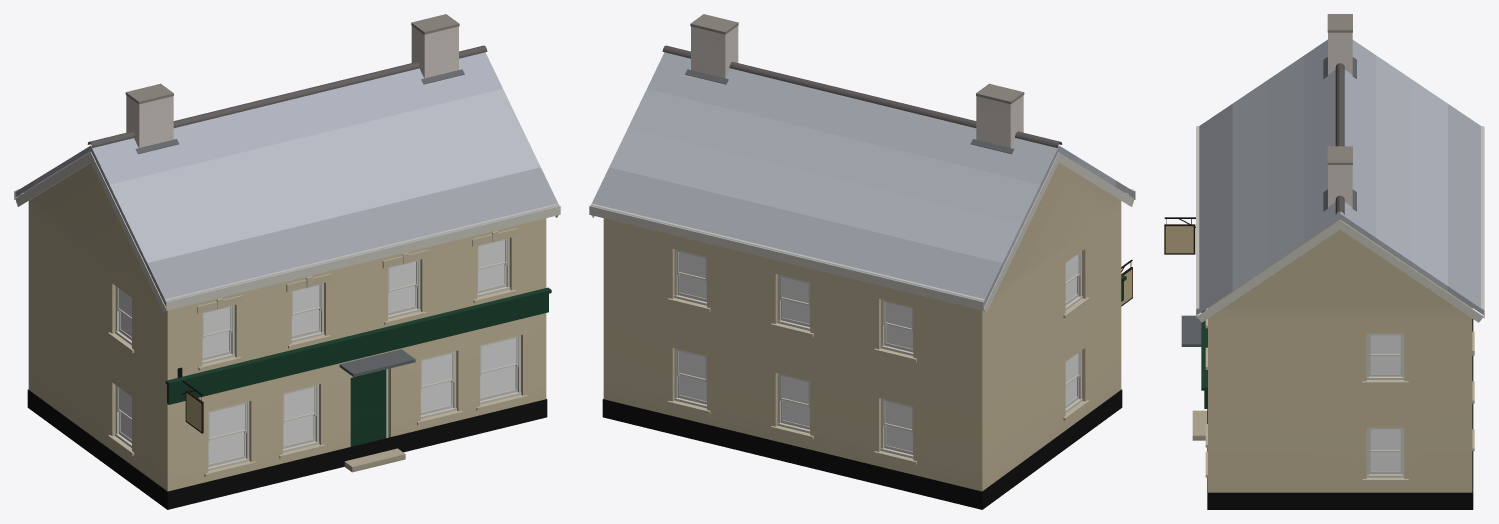
The model's file is town_pub_a_lod2.glb.
The picture shows the model from 3 angles, left to right: view 1: azimuth 30°, elevation 25°; view 2: azimuth 150°, elevation 25°; view 3: azimuth 270°, elevation 25°; orthographic projection. The views are drawn at different scales.
Parts seen in each view (by area): view 1: body; view 2: body; view 3: body.
Boxes of the visible parts, x1=… form: body: x1=14, y1=14, x2=560, y2=509; body: x1=589, y1=14, x2=1135, y2=509; body: x1=1164, y1=14, x2=1484, y2=509.
Size of what is drawn, in the model's own units: 11.48 by 9.81 by 8.48.
